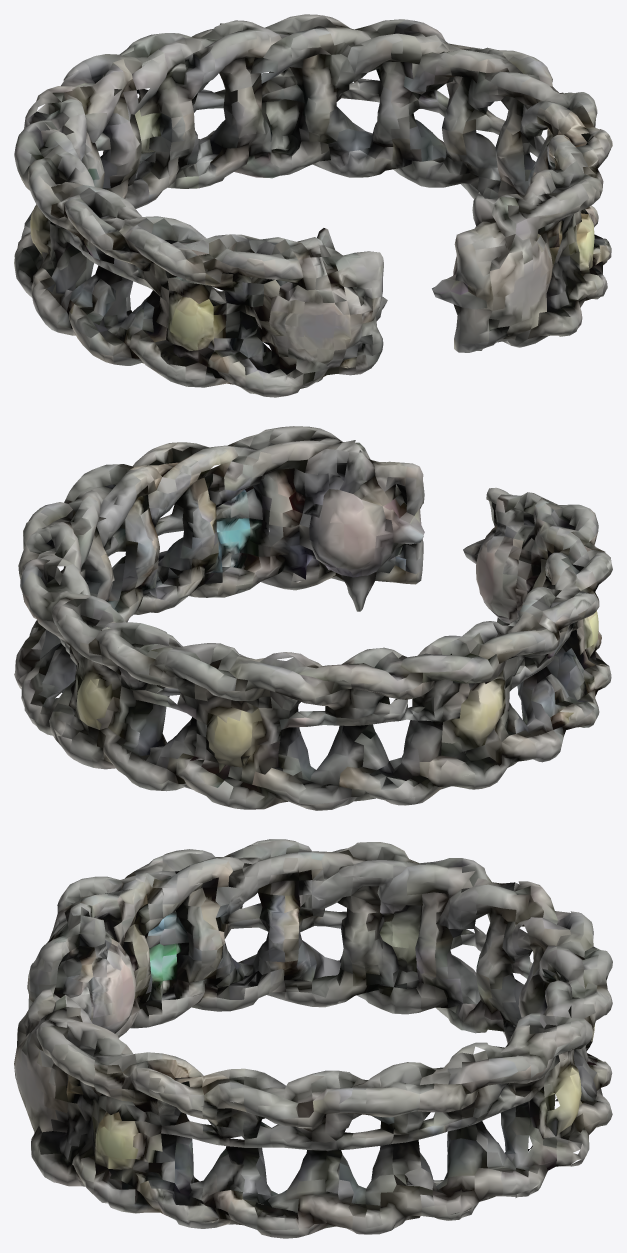
Rendered from boho_bilezik.glb.
3 renders of one model, top to bottom at view 1: azimuth 30°, elevation 25°; view 2: azimuth 150°, elevation 25°; view 3: azimuth 270°, elevation 25°, orthographic. The views are drawn at different scales.
Visible parts, largest first — view 1: boho_bilezik; view 2: boho_bilezik; view 3: boho_bilezik.
Part boxes in pixels (left/top/right/bottom): boho_bilezik: left=14, top=14, right=612, bottom=397; boho_bilezik: left=14, top=426, right=612, bottom=810; boho_bilezik: left=14, top=839, right=612, bottom=1238.
Bounding box in the file's own units: 0.3666 × 0.1095 × 0.3559.
Materials: 1 (1 with a texture image).
